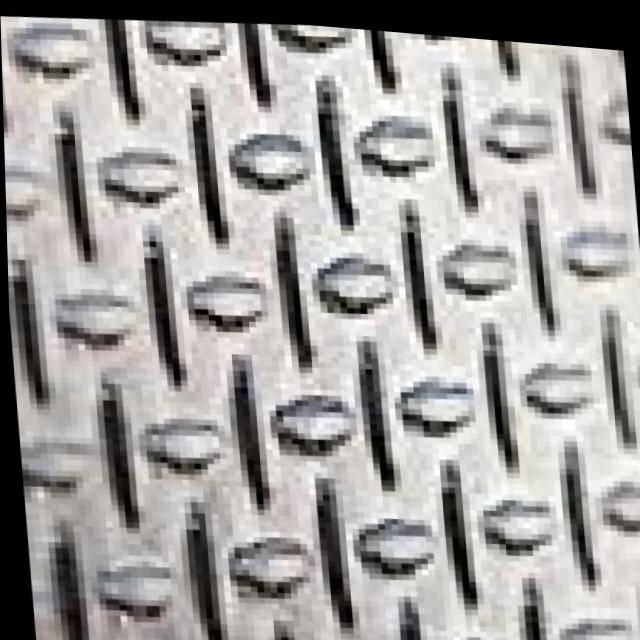metal-plates: (1, 17, 640, 640)
